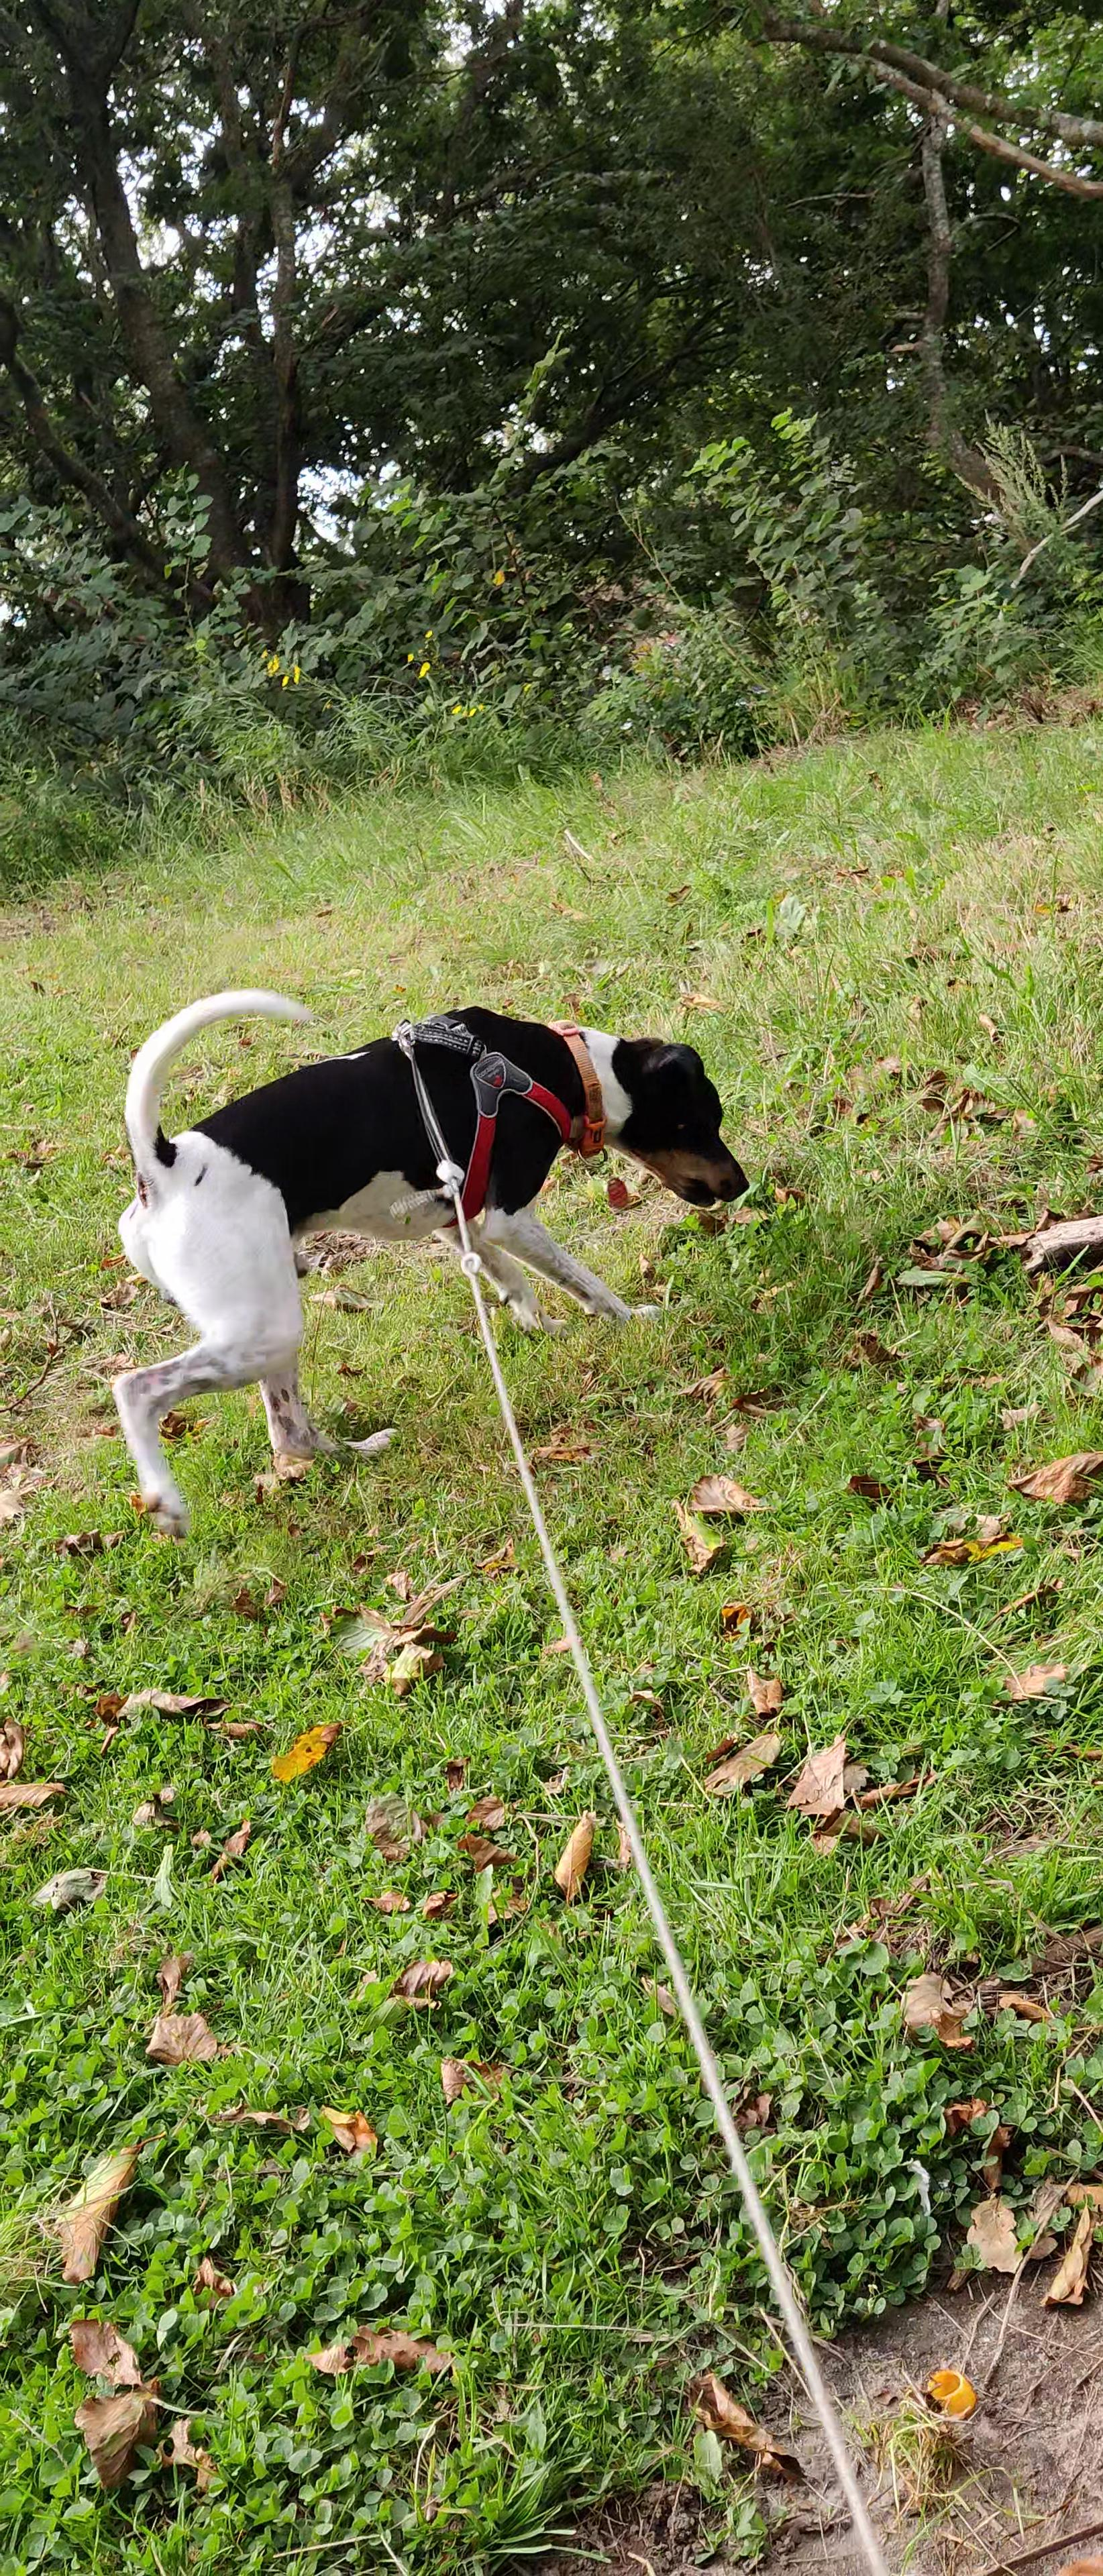Dog: (102, 987, 756, 1543)
